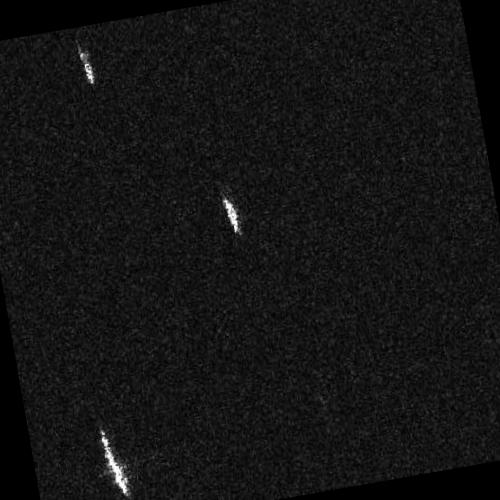ship: (98, 427, 131, 497), (75, 42, 96, 86), (220, 196, 242, 235)
